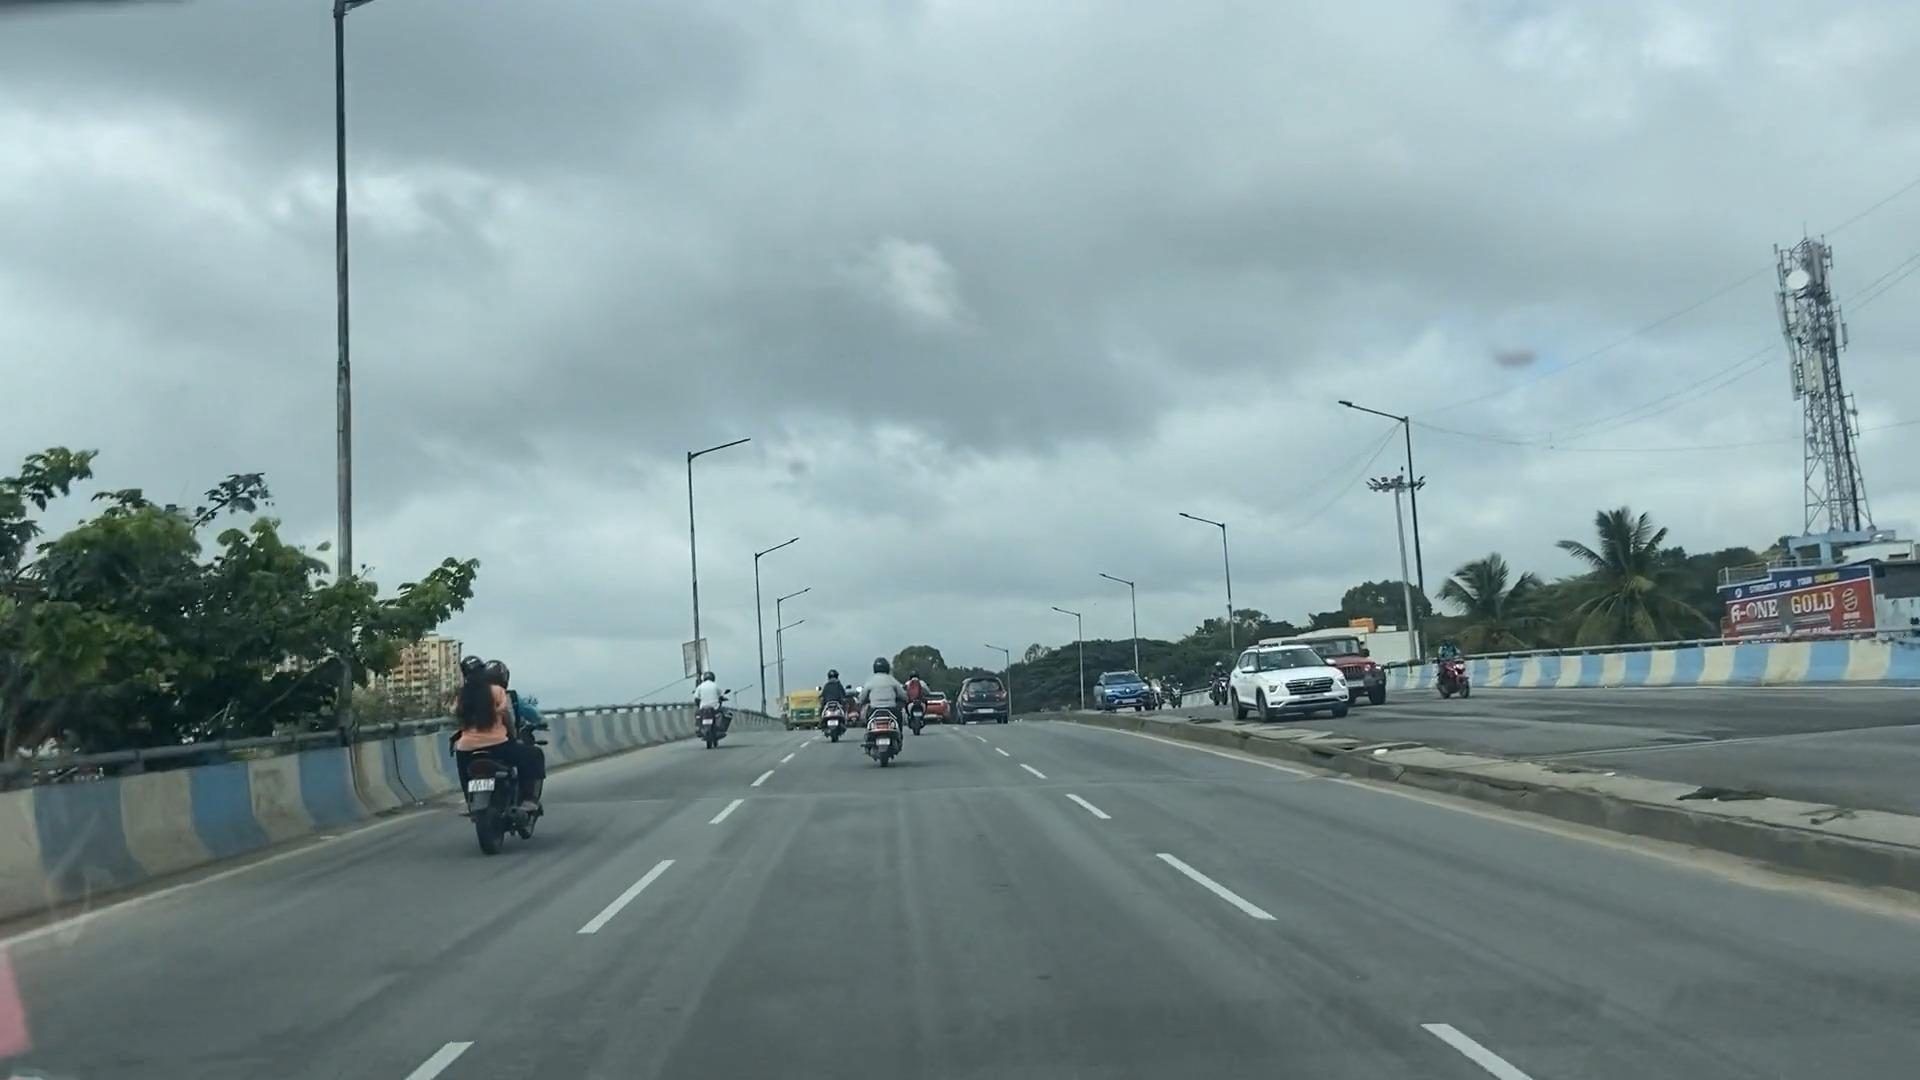LMV: (458, 655, 547, 844), (864, 655, 903, 775), (957, 666, 1014, 725), (692, 666, 728, 749), (825, 670, 848, 741)
